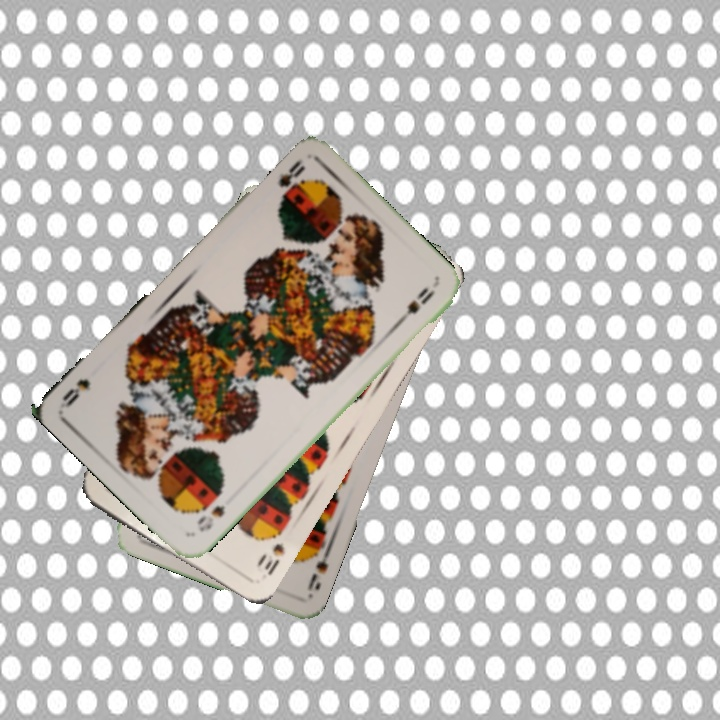S10: (251, 539, 288, 578)
S9: (303, 539, 335, 598)
SO: (193, 487, 228, 535), (274, 154, 308, 202)
